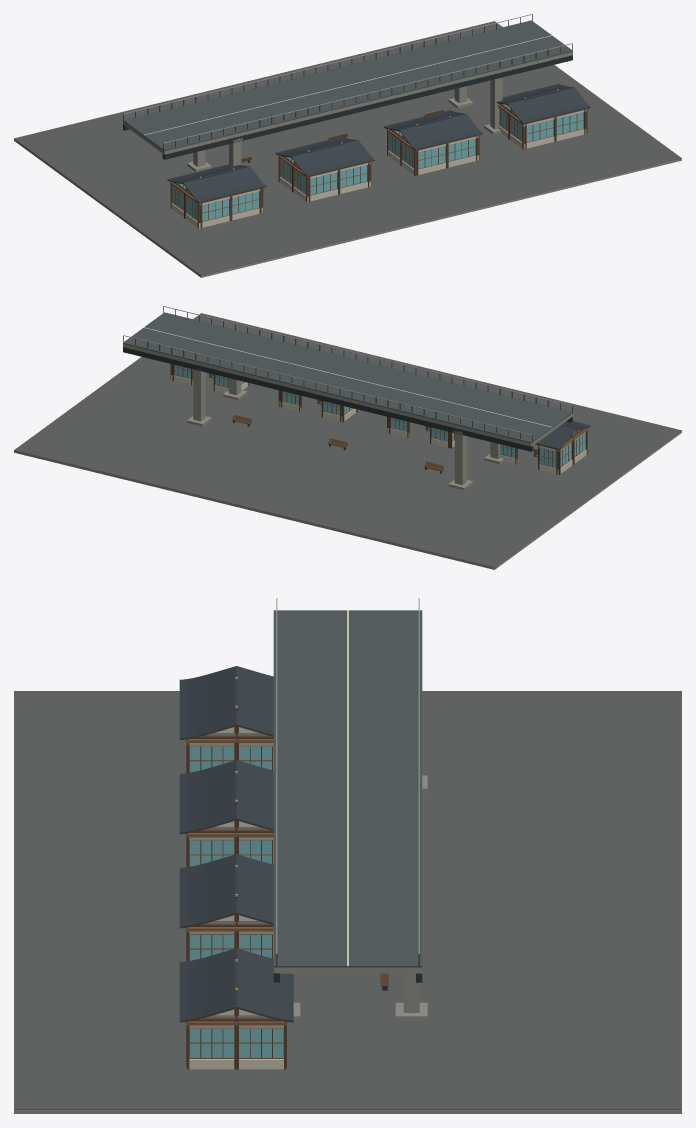
The model's file is visual-far.glb.
3 renders of one model, top to bottom at view 1: azimuth 30°, elevation 25°; view 2: azimuth 150°, elevation 25°; view 3: azimuth 270°, elevation 25°, orthographic. The views are drawn at different scales.
Visible parts, largest first — view 1: 石铺面与混凝土承板, 分层路床、承梁、支座和实墩, 分格窗洞与木石墙 (×8), 连续飞檐与梁椽 (×4); view 2: 石铺面与混凝土承板, 分层路床、承梁、支座和实墩, 中轴实开门墙 (×4), 分格窗洞与木石墙, 连续飞檐与梁椽; view 3: 石铺面与混凝土承板, 分层路床、承梁、支座和实墩, 连续飞檐与梁椽 (×4), 分格窗洞与木石墙 (×4).
Part boxes in pixels (x1=…): 石铺面与混凝土承板: x1=14, y1=21, x2=681, y2=277; 分层路床、承梁、支座和实墩: x1=123, y1=14, x2=572, y2=171; 分格窗洞与木石墙 (×8): x1=170, y1=104, x2=585, y2=228; 连续飞檐与梁椽 (×4): x1=167, y1=83, x2=590, y2=203; 石铺面与混凝土承板: x1=14, y1=313, x2=681, y2=569; 分层路床、承梁、支座和实墩: x1=123, y1=306, x2=572, y2=490; 中轴实开门墙 (×4): x1=172, y1=364, x2=557, y2=474; 分格窗洞与木石墙: x1=557, y1=428, x2=587, y2=474; 连续飞檐与梁椽: x1=536, y1=421, x2=590, y2=449; 石铺面与混凝土承板: x1=14, y1=691, x2=681, y2=1113; 分层路床、承梁、支座和实墩: x1=273, y1=598, x2=427, y2=1020; 连续飞檐与梁椽 (×4): x1=179, y1=666, x2=293, y2=1022; 分格窗洞与木石墙 (×4): x1=187, y1=739, x2=285, y2=1069.
Bounding box in the file's own units: 80 × 11.49 × 54.
Materials: 16 (16 with a texture image).
